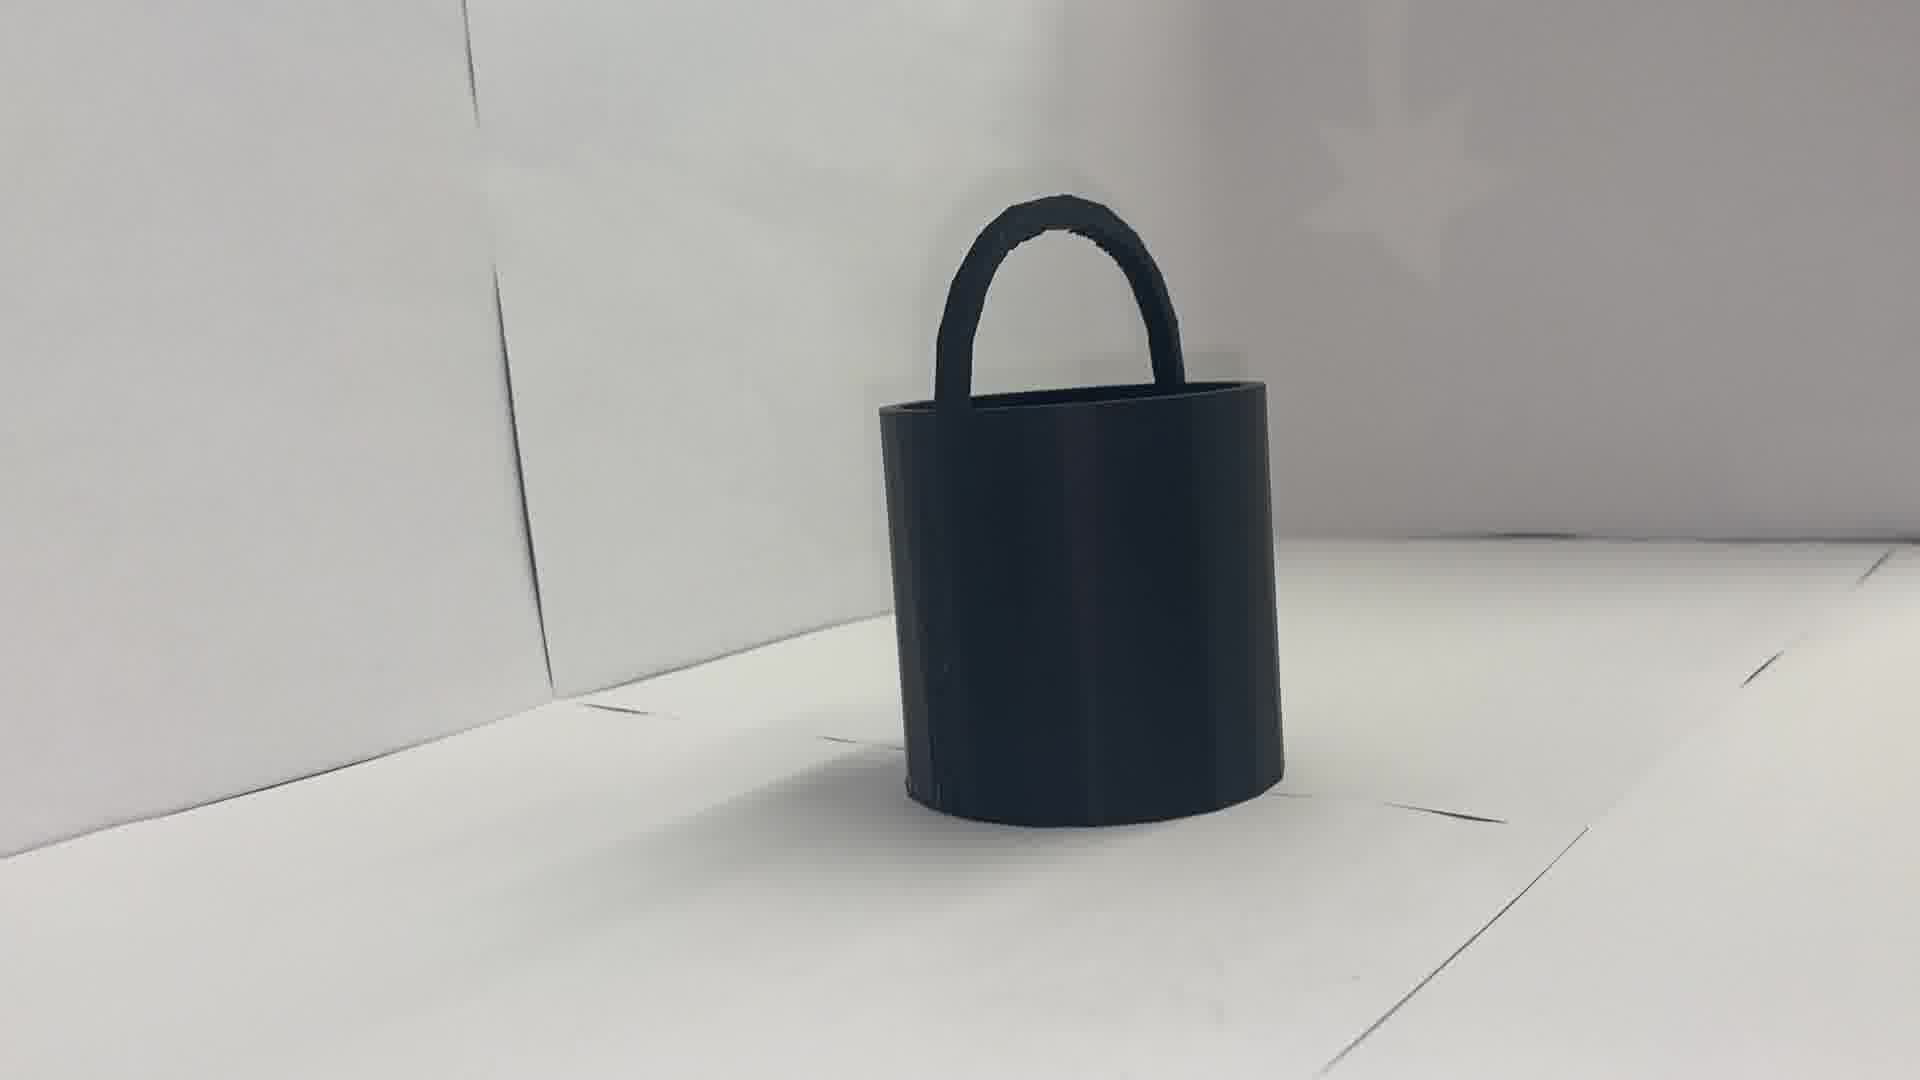bag: (866, 164, 1294, 839)
